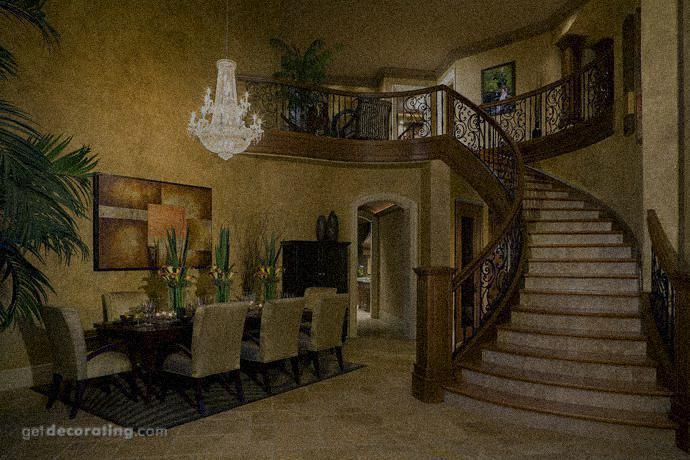Escaleras: (437, 95, 678, 440)
